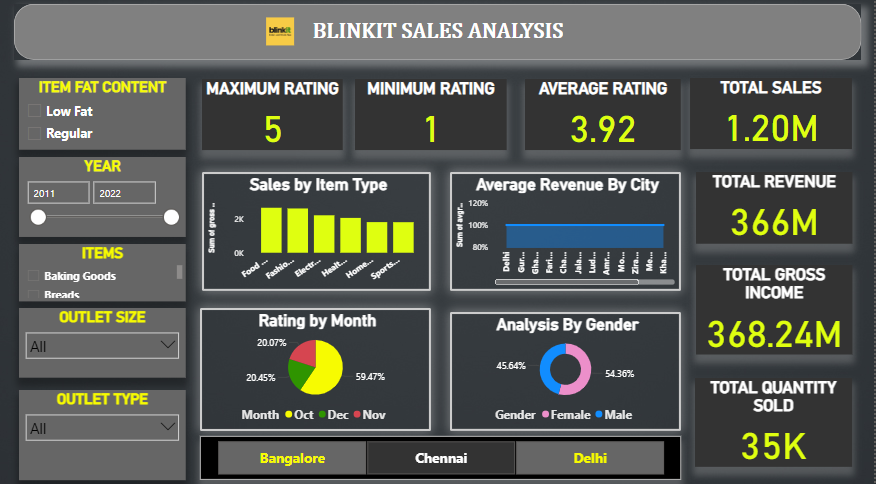

What the dashboard file says about the page in this screenshot:
{"tool":"powerbi","page":{"name":"Dashboard","canvas":[1280,720],"ordinal":0},"visuals":[{"type":"shape","title":"BLINKIT SALES ANALYSIS","box":[20,11.7,1240,81.7],"z":0},{"type":"card","title":"MAXIMUM RATING","fields":{"Values":["blinkit 20's.maximum rating"]},"box":[295.6,120.9,206.3,103.9],"z":1000},{"type":"card","title":"MINIMUM RATING","fields":{"Values":["blinkit 20's.minrating"]},"box":[519.5,121.5,222.4,103.9],"z":2000},{"type":"card","title":"TOTAL SALES","fields":{"Values":["Sum(blinkit 20's.Sales)"]},"box":[1009.8,120,237.1,103.9],"z":3000},{"type":"card","title":"AVERAGE RATING","fields":{"Values":["Avg(blinkit 20's.Rating)"]},"box":[768.3,121.5,228.3,103.9],"z":4000},{"type":"slicer","title":"ITEM FAT CONTENT","fields":{"Values":["blinkit 20's.Item Fat Content"]},"box":[27.3,120,244.5,104.8],"z":5000},{"type":"slicer","title":"YEAR","fields":{"Values":["blinkit 20's.Outlet Establishment Year"]},"box":[27.3,235.3,244.5,116.9],"z":6000},{"type":"slicer","title":"ITEMS","fields":{"Values":["blinkit 20's.Item Type"]},"box":[27.3,362.9,244.5,83.5],"z":7000},{"type":"slicer","title":"OUTLET SIZE","fields":{"Values":["blinkit 20's.Outlet Size"]},"box":[27.3,457,244.5,101.7],"z":8000},{"type":"slicer","title":"OUTLET TYPE","fields":{"Values":["blinkit 20's.Outlet Type"]},"box":[27.3,577,244.5,132.1],"z":9000},{"type":"clusteredColumnChart","title":"Sales by Item Type","fields":{"Y":["Sum(blinkit dark store.gross margin percentage)"],"Category":["blinkit dark store.Product line"]},"box":[295.6,257.6,335.1,174.1],"z":10000},{"type":"hundredPercentStackedAreaChart","title":"Average Revenue By City","fields":{"Y":["Sum(oil and dry fruits.avgrevenue)"],"Category":["oil and dry fruits.city_name"]},"box":[658.5,257.6,338,174.1],"z":11000},{"type":"pieChart","title":" Rating by Month","fields":{"Y":["Sum(oil and dry fruits.qty_sold)"],"Category":["oil and dry fruits.Month"]},"box":[292.7,456.6,338,180],"z":12000},{"type":"donutChart","title":"Analysis By Gender","fields":{"Category":["blinkit dark store.Gender"],"Y":["Sum(blinkit dark store.totalgross)"]},"box":[658.5,462.4,338,174.1],"z":13000},{"type":"image","box":[383.4,26.3,52.7,51.2],"z":14000},{"type":"card","title":"TOTAL REVENUE","fields":{"Values":["Sum(oil and dry fruits.Revenue)"]},"box":[1018.8,258.1,229.3,104.8],"z":15000},{"type":"card","title":"TOTAL GROSS INCOME","fields":{"Values":["Sum(blinkit dark store.totalgross)"]},"box":[1018.8,393.3,229.3,130.6],"z":16000},{"type":"card","title":"TOTAL QUANTITY SOLD","fields":{"Values":["Sum(oil and dry fruits.qty_sold)"]},"box":[1017.1,559,229.8,130.2],"z":17000},{"type":"slicer","fields":{"Values":["blinkit dark store.City"]},"box":[292.7,643.9,703.9,64.4],"z":18000}]}

Visuals, with their boxes in screenshot pixels (x1, y1, x2, y2), scaled from the page's 1280x720 canvas onto the 876x484 screenshot:
"BLINKIT SALES ANALYSIS" shape: [14,8,862,63]
"MAXIMUM RATING" card: [202,81,343,151]
"MINIMUM RATING" card: [356,82,508,152]
"TOTAL SALES" card: [691,81,853,151]
"AVERAGE RATING" card: [526,82,682,152]
"ITEM FAT CONTENT" slicer: [19,81,186,151]
"YEAR" slicer: [19,158,186,237]
"ITEMS" slicer: [19,244,186,300]
"OUTLET SIZE" slicer: [19,307,186,376]
"OUTLET TYPE" slicer: [19,388,186,477]
"Sales by Item Type" clusteredColumnChart: [202,173,432,290]
"Average Revenue By City" hundredPercentStackedAreaChart: [451,173,682,290]
" Rating by Month" pieChart: [200,307,432,428]
"Analysis By Gender" donutChart: [451,311,682,428]
image: [262,18,298,52]
"TOTAL REVENUE" card: [697,174,854,244]
"TOTAL GROSS INCOME" card: [697,264,854,352]
"TOTAL QUANTITY SOLD" card: [696,376,853,463]
slicer - blinkit dark store.City: [200,433,682,476]
